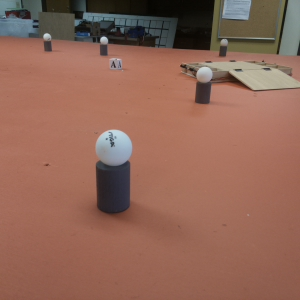obstacle: (92, 127, 136, 215), (196, 67, 212, 105), (43, 33, 53, 54), (217, 39, 229, 56), (99, 37, 109, 56)
side: (176, 62, 196, 80)
slope: (230, 66, 291, 95)
